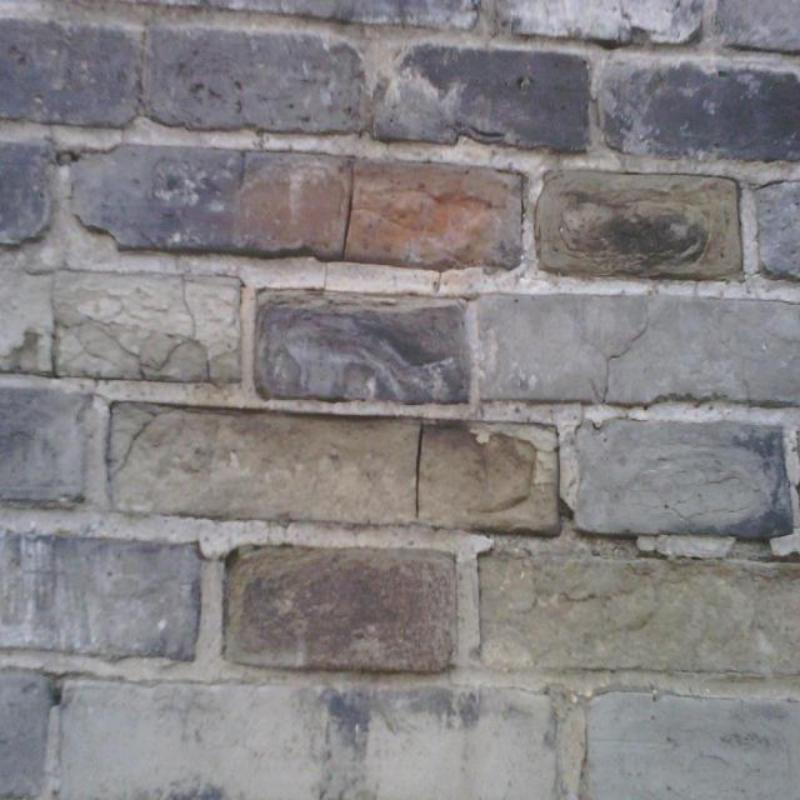pothole: (56, 274, 212, 384), (580, 315, 650, 405), (117, 410, 170, 472), (55, 140, 121, 165), (342, 164, 355, 260), (195, 541, 238, 568), (416, 422, 424, 520), (320, 262, 330, 294), (558, 499, 574, 519), (50, 682, 61, 710), (238, 150, 246, 188)
